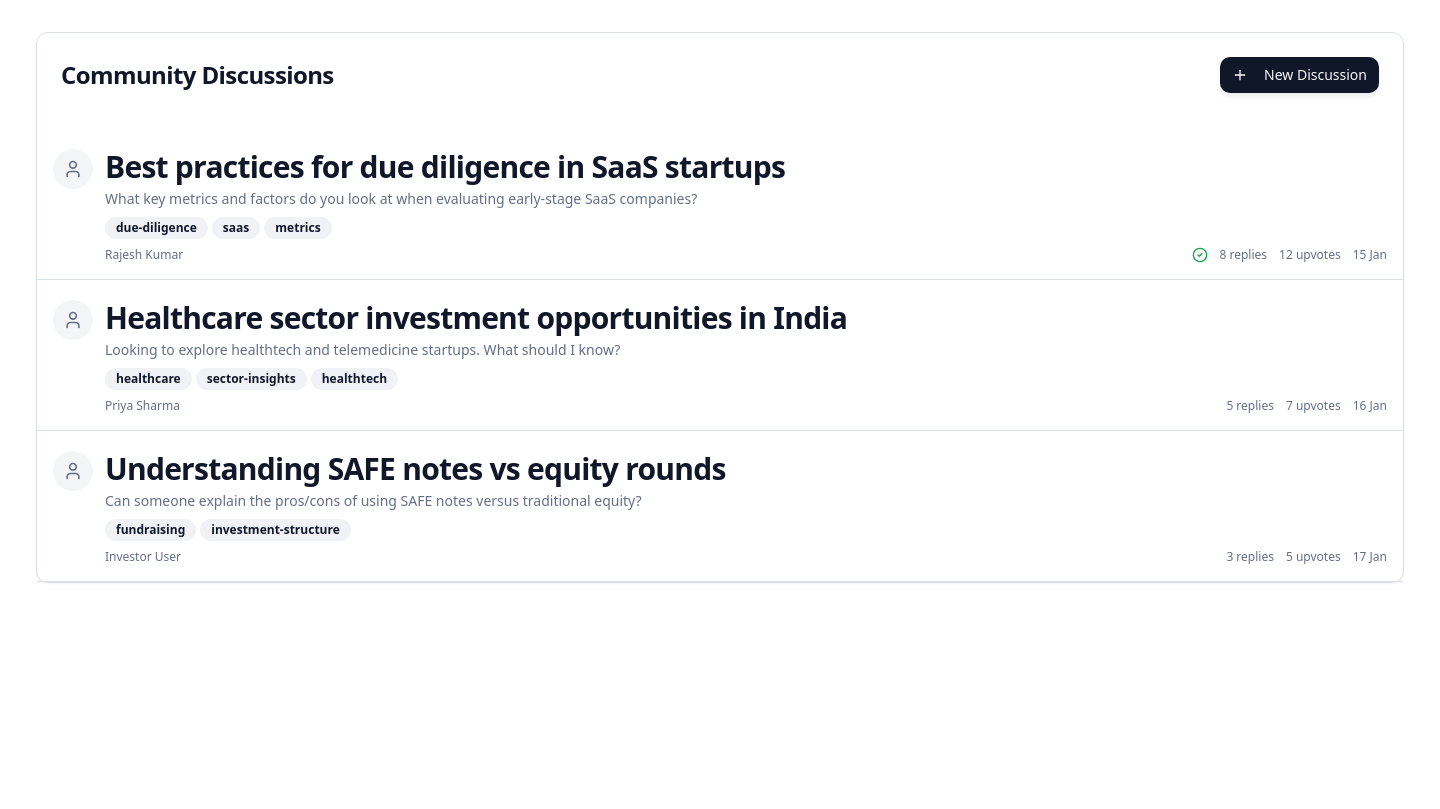
Test: US-INVESTOR-015: Create Discussion Threads › View Discussion Details › should display replies when viewing discussion
The width and height of the screenshot is (1440, 809).
Click the heading "Best practices for due diligence in SaaS startups": (445, 166) [105, 146, 785, 187]
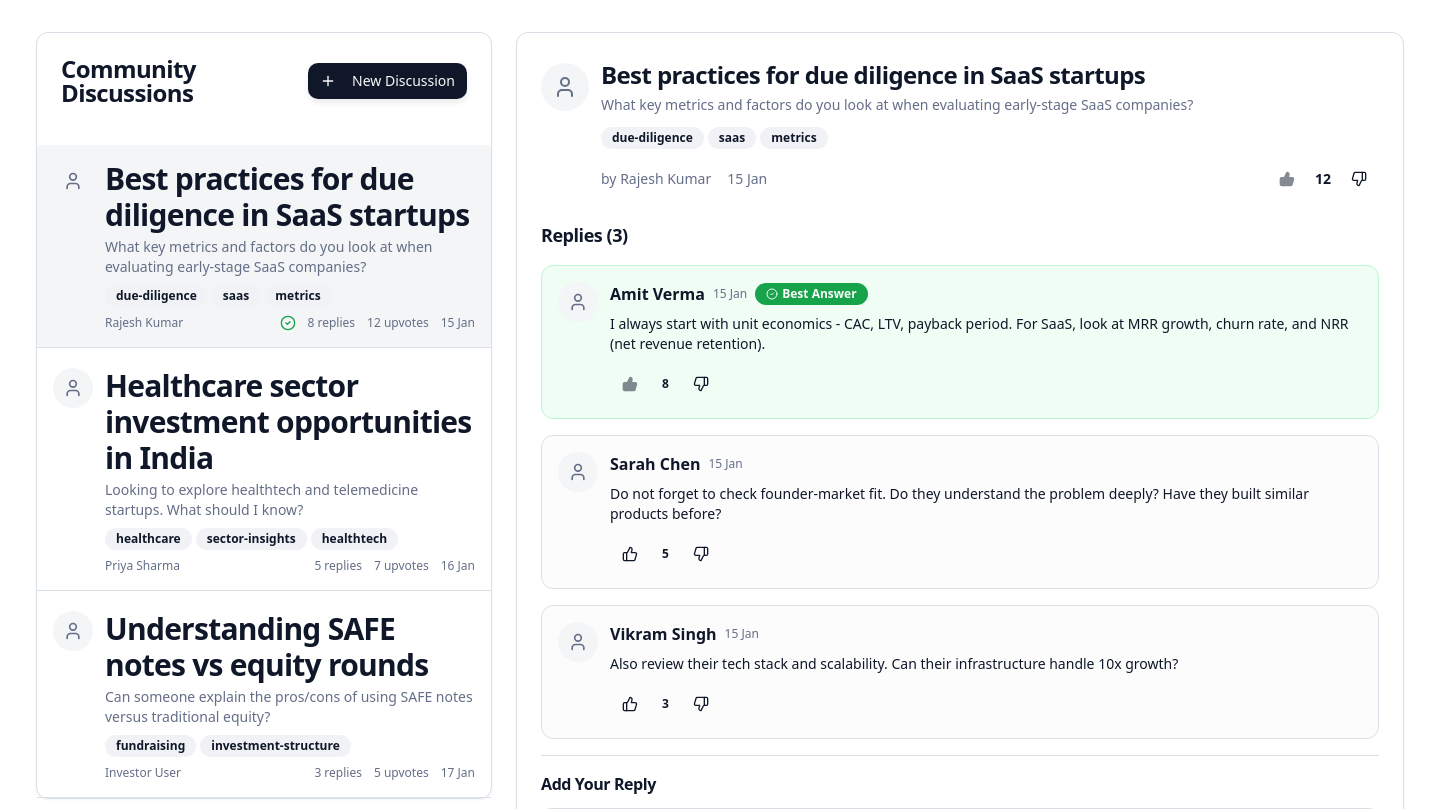
Expected: the text "I always start with unit economics" is shown, [610, 314, 1352, 353]
Expected: the text "founder-market fit" is shown, [610, 484, 1313, 523]
Expected: the text "tech stack and scalability" is shown, [610, 654, 1178, 673]
